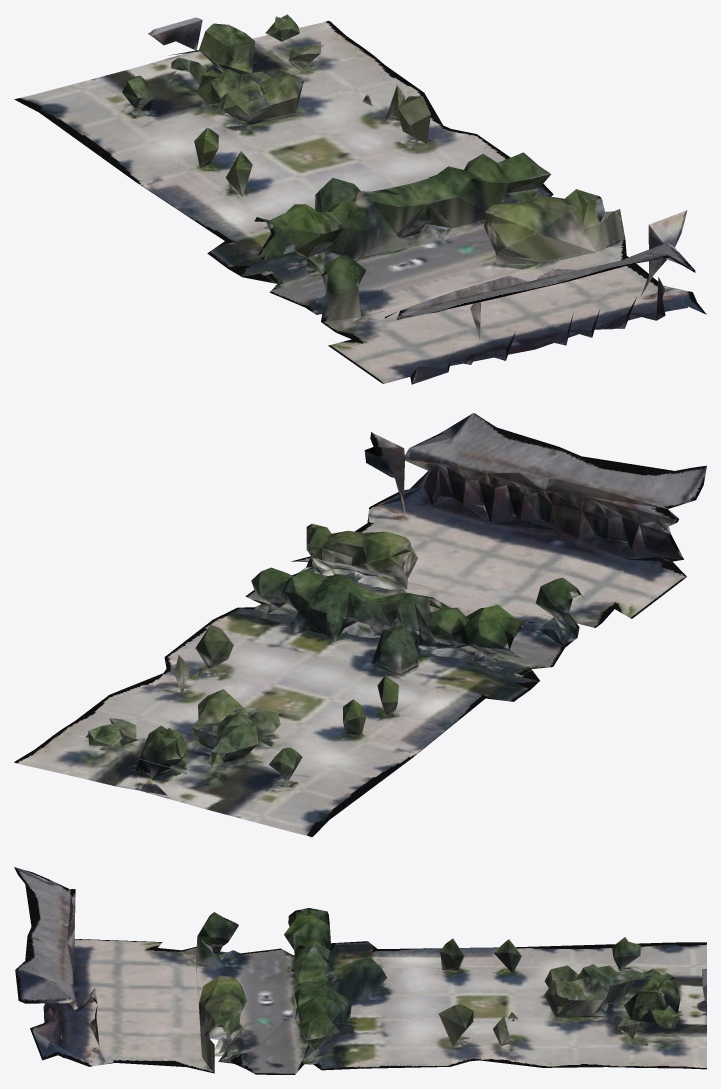
3 views of the same model, one above another, from view 1: azimuth 30°, elevation 25°; view 2: azimuth 150°, elevation 25°; view 3: azimuth 270°, elevation 25° (orthographic). The views are drawn at different scales.
Size of the model in its own units: 48.87 by 13.69 by 106.
1 material, 1 textured.
